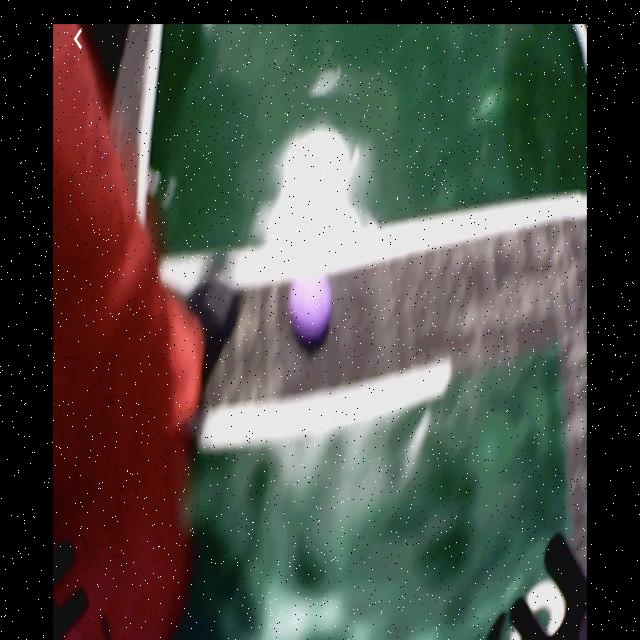ball: (291, 270, 331, 339)
